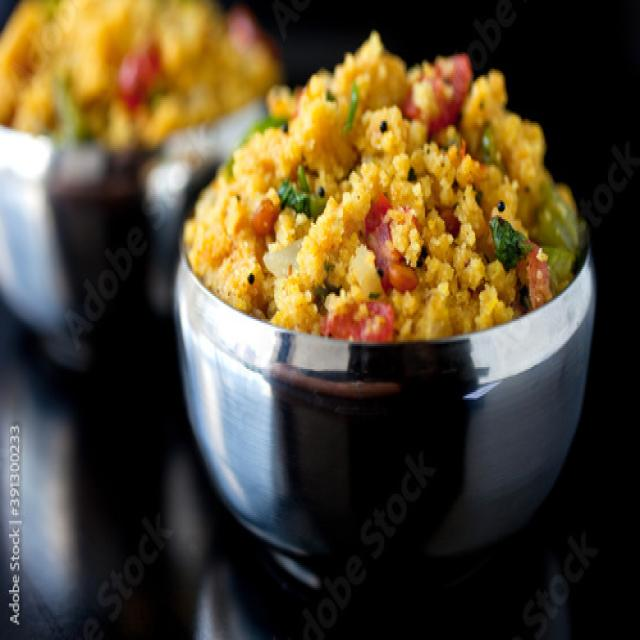UPMA: (183, 35, 582, 340)
